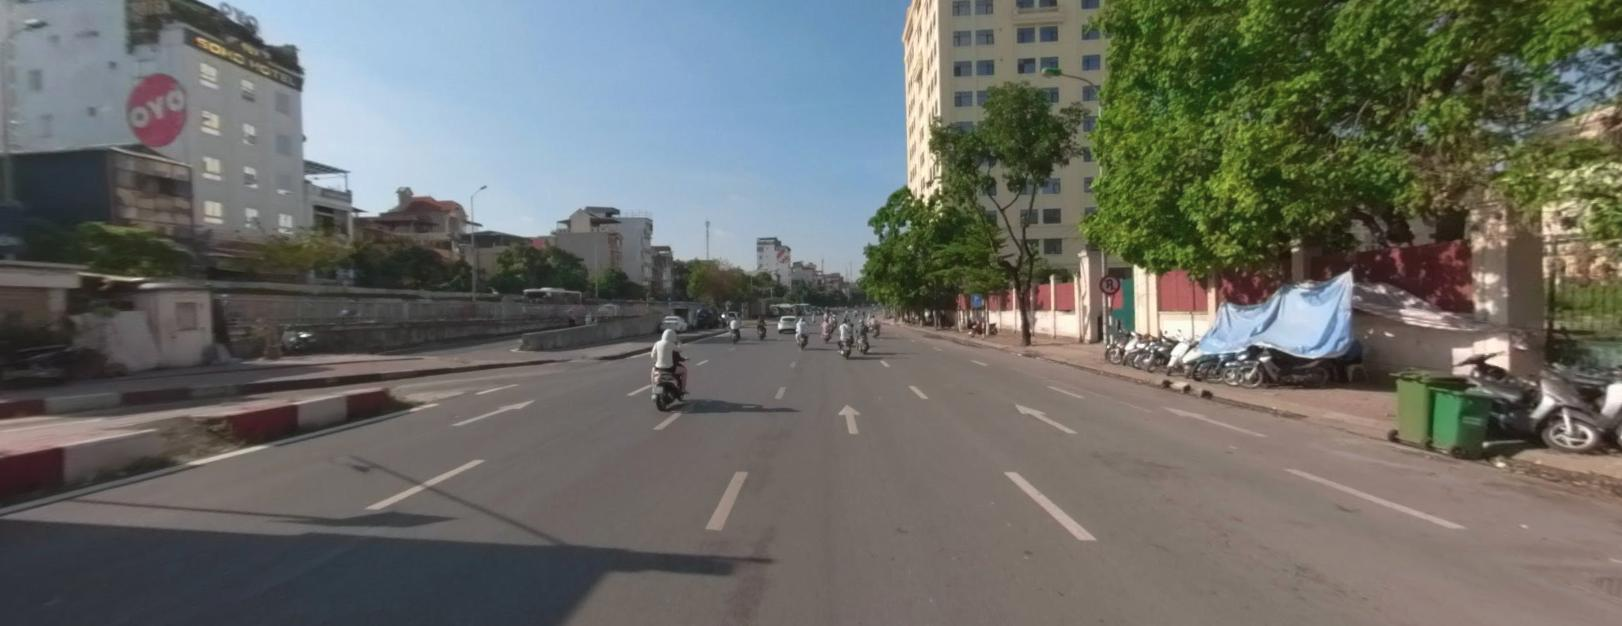Cam re: (1099, 273, 1119, 293)
